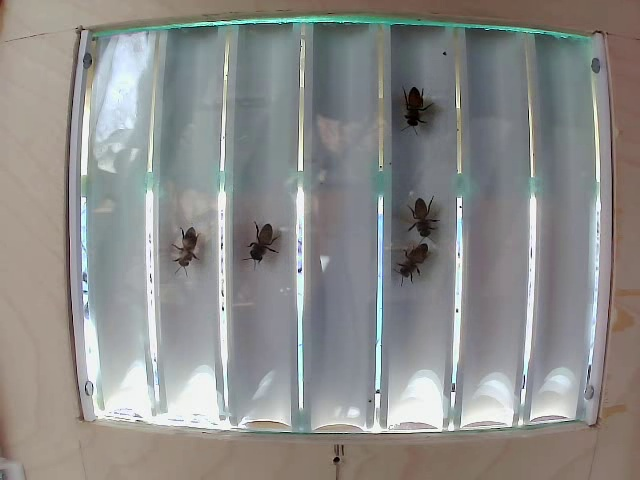bee: (381, 225, 431, 292), (163, 222, 204, 281), (388, 73, 427, 131), (246, 213, 281, 275), (398, 205, 436, 245)
